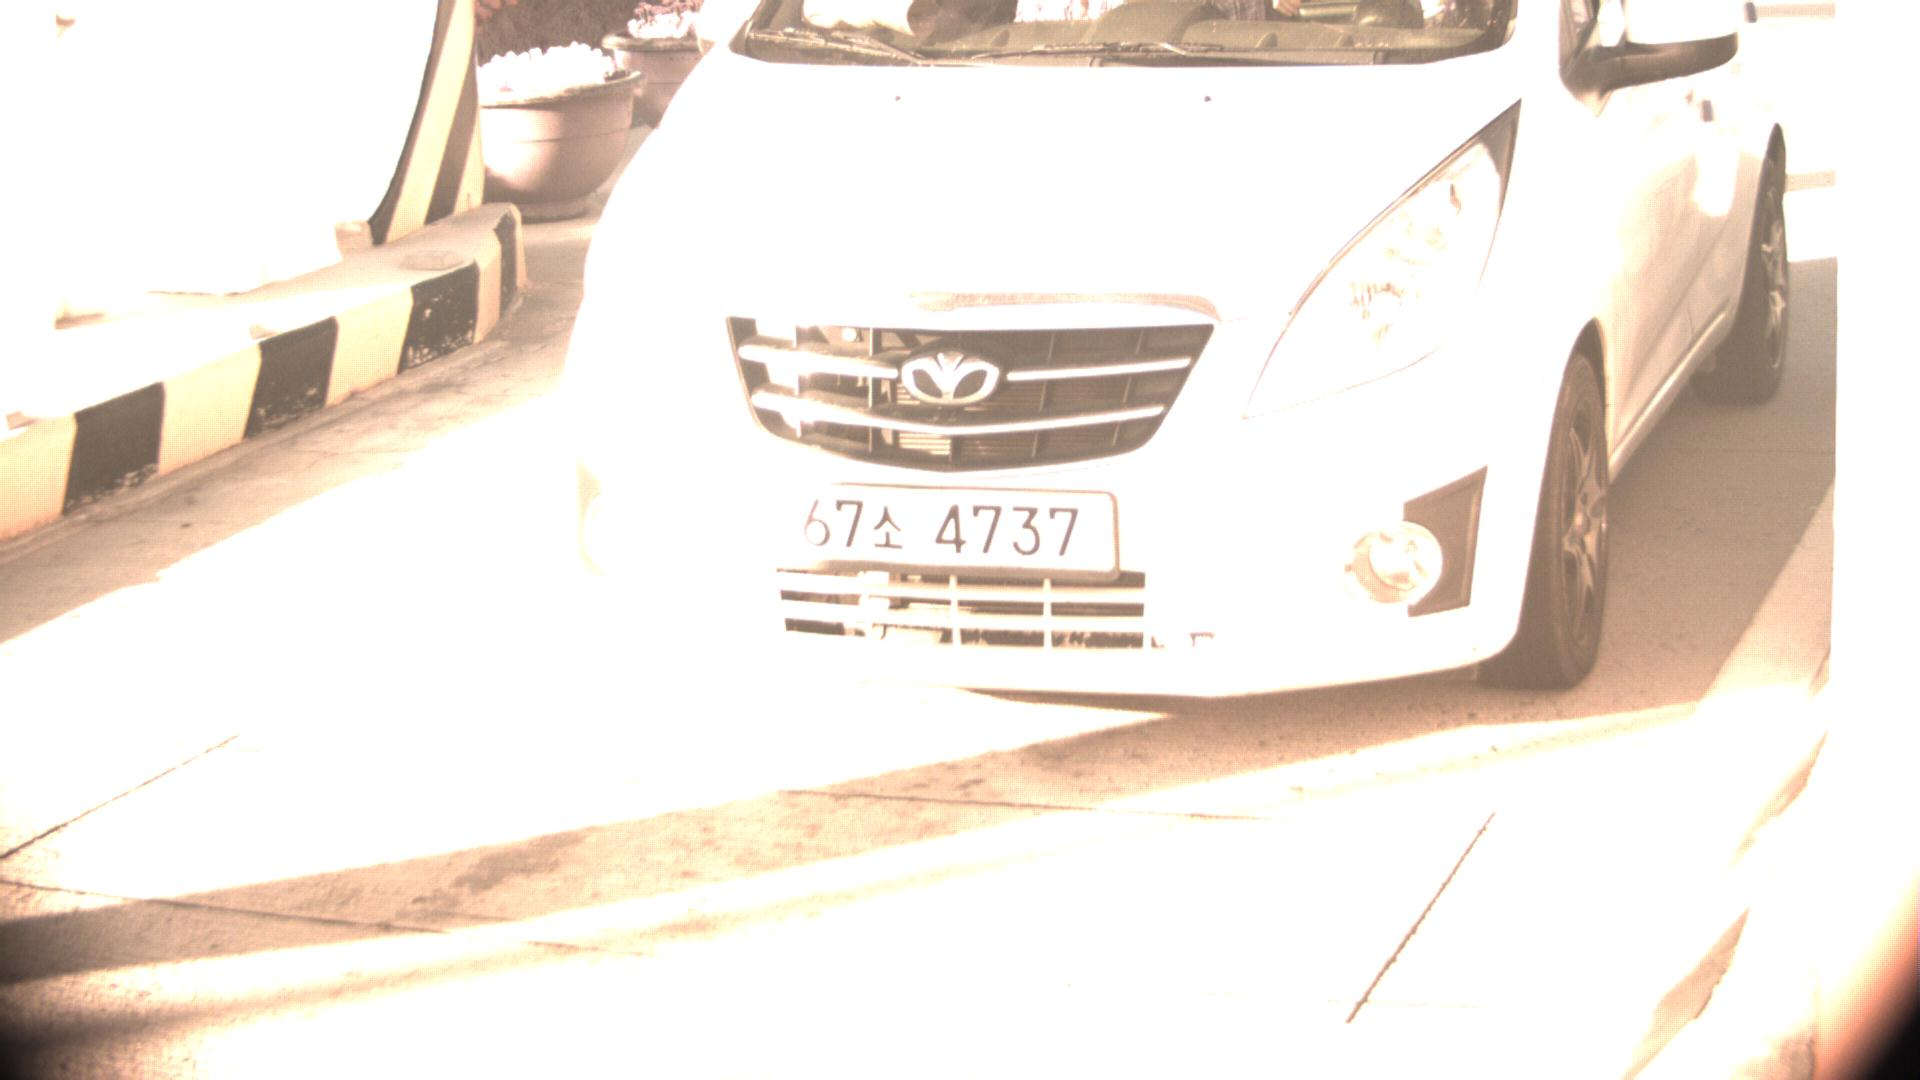car: (509, 1, 1803, 723)
plate: (727, 481, 1119, 583)
